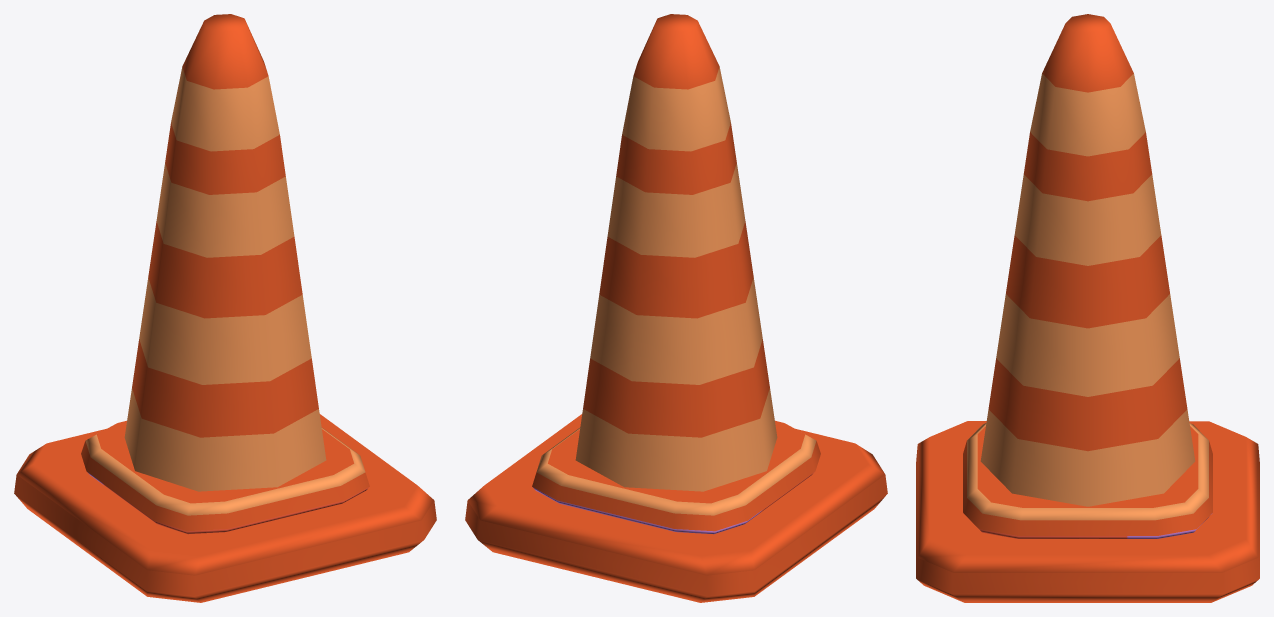
The model's file is trafficcones.fbx.
3 renders of one model, left to right at view 1: azimuth 30°, elevation 25°; view 2: azimuth 150°, elevation 25°; view 3: azimuth 270°, elevation 25°, orthographic. The views are drawn at different scales.
Parts seen in each view (by area): view 1: Cone1; view 2: Cone1; view 3: Cone1.
Part boxes in pixels (left/top/right/bottom): Cone1: left=14, top=14, right=436, bottom=602; Cone1: left=465, top=14, right=887, bottom=602; Cone1: left=916, top=14, right=1259, bottom=602.
Bounding box in the file's own units: 4.22 × 6.9 × 4.22.
